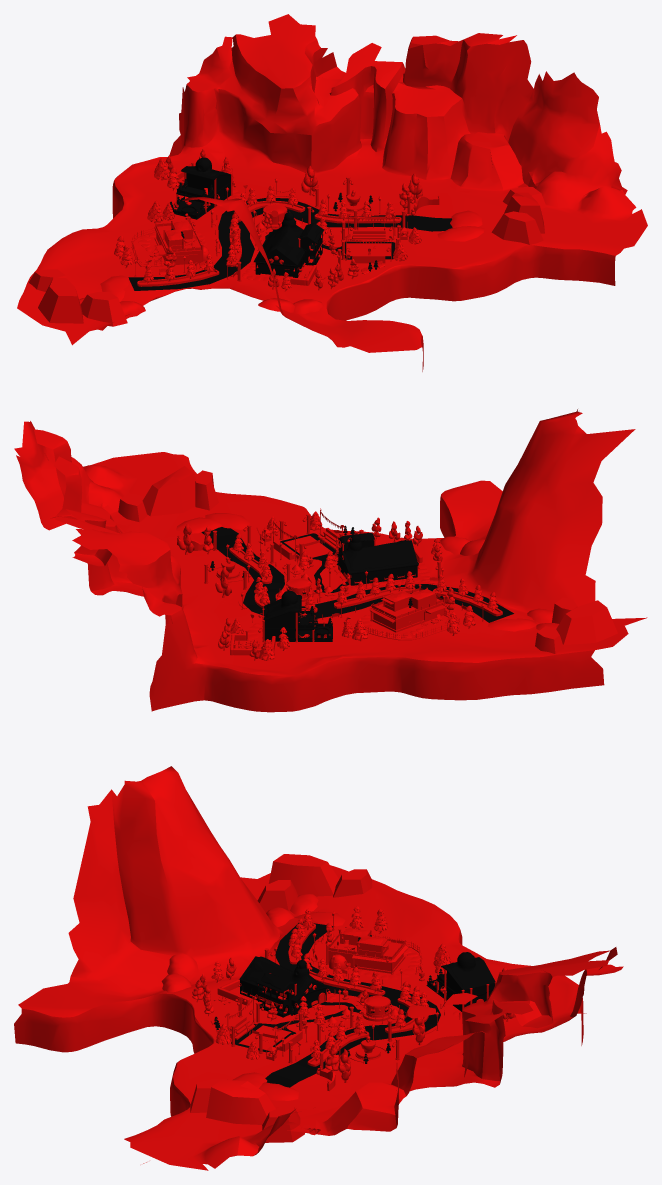
Rendered from Individual_BeverlyChills_02.glb.
3 renders of one model, top to bottom at view 1: azimuth 30°, elevation 25°; view 2: azimuth 150°, elevation 25°; view 3: azimuth 270°, elevation 25°, orthographic. The views are drawn at different scales.
Visible parts, largest first — view 1: pasted__BeverlyChillsRoad_01, pasted__polySurface154, pasted__Building_LuxuryHouse2Story1, pasted__Object_RoadIslands, pasted__Object_IceRock4, pasted__Building_LuxuryHouse3, pasted__Object_IceRock8, pasted__Object_IceRock3, pasted__Object_IceRock6, pasted__Building_TennisCourt2, pasted__SnowPatch6; view 2: pasted__BeverlyChillsRoad_01, pasted__polySurface154, pasted__Building_LuxuryHouse2Story1, pasted__Building_LuxuryHouse3, pasted__Object_IceRock4, pasted__Object_IceRock6, pasted__Object_RoadIslands, pasted__Object_IceRock8, pasted__Object_IceRock7, pasted__Object_IceRock5, pasted__Building_TennisCourt2, pasted__SnowPatch6 (+3 smaller); view 3: pasted__BeverlyChillsRoad_01, pasted__polySurface154, pasted__Object_IceRock6, pasted__Building_LuxuryHouse3, pasted__Object_IceRock4, pasted__Building_LuxuryHouse2Story1, pasted__Object_RoadIslands, pasted__Object_IceRock3, pasted__Object_IceRock7, pasted__Object_IceRock5, pasted__Building_RoundCoffeeShop1, pasted__SnowPatch4.
Boxes of the visible parts, x1,y1,x2,y2 form: pasted__BeverlyChillsRoad_01: (17,14,647,371); pasted__polySurface154: (253,212,323,277); pasted__Building_LuxuryHouse2Story1: (172,157,230,219); pasted__Object_RoadIslands: (137,201,401,286); pasted__Object_IceRock4: (38,277,83,323); pasted__Building_LuxuryHouse3: (154,220,201,264); pasted__Object_IceRock8: (491,211,543,244); pasted__Object_IceRock3: (80,291,127,326); pasted__Object_IceRock6: (504,192,544,233); pasted__Building_TennisCourt2: (346,243,391,256); pasted__SnowPatch6: (437,226,484,241); pasted__BeverlyChillsRoad_01: (14,409,647,712); pasted__polySurface154: (336,533,418,585); pasted__Building_LuxuryHouse2Story1: (263,590,332,641); pasted__Building_LuxuryHouse3: (372,588,443,632); pasted__Object_IceRock4: (556,600,617,644); pasted__Object_IceRock6: (142,466,196,516); pasted__Object_RoadIslands: (229,547,502,616); pasted__Object_IceRock8: (195,470,218,510); pasted__Object_IceRock7: (118,493,147,522); pasted__Object_IceRock5: (535,626,563,653); pasted__Building_TennisCourt2: (284,536,332,558); pasted__SnowPatch6: (205,513,249,529); pasted__BeverlyChillsRoad_01: (14,766,623,1170); pasted__polySurface154: (239,956,329,1017); pasted__Object_IceRock6: (206,1079,275,1124); pasted__Building_LuxuryHouse3: (328,927,405,973); pasted__Object_IceRock4: (268,854,338,896); pasted__Building_LuxuryHouse2Story1: (426,952,495,1011); pasted__Object_RoadIslands: (288,924,428,1066); pasted__Object_IceRock3: (257,880,297,912); pasted__Object_IceRock7: (262,1106,304,1142); pasted__Object_IceRock5: (333,869,372,897); pasted__Building_RoundCoffeeShop1: (359,995,392,1021); pasted__SnowPatch4: (167,953,198,981).
Size of the model in its own units: 119 by 33.84 by 104.
